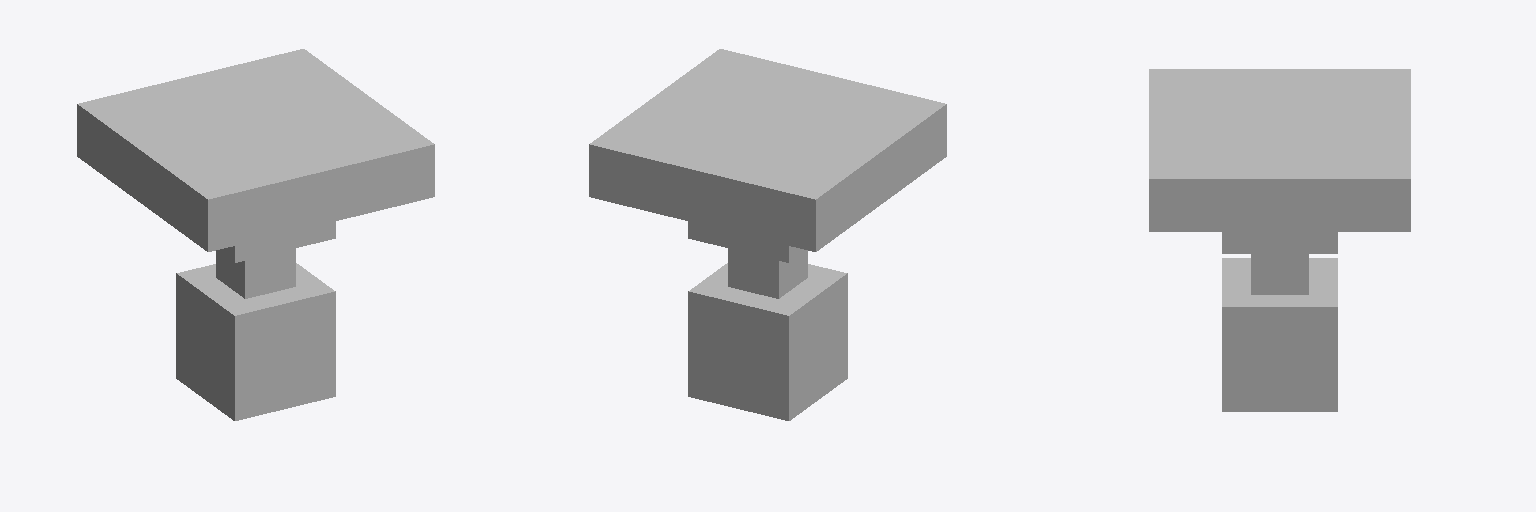
The model's file is lampada_off.obj.
3 renders of one model, left to right at view 1: azimuth 30°, elevation 25°; view 2: azimuth 150°, elevation 25°; view 3: azimuth 270°, elevation 25°, orthographic.
Parts seen in each view (by area): view 1: base, bulb; view 2: base, bulb; view 3: base, bulb.
Part boxes in pixels (x1,y1,x2,y2): base: (77, 49, 434, 251); bulb: (176, 221, 335, 420); base: (589, 49, 946, 251); bulb: (688, 221, 847, 420); base: (1149, 69, 1410, 231); bulb: (1222, 232, 1337, 411).
Bounding box in the file's own units: 0.5625 × 0.625 × 0.5625.